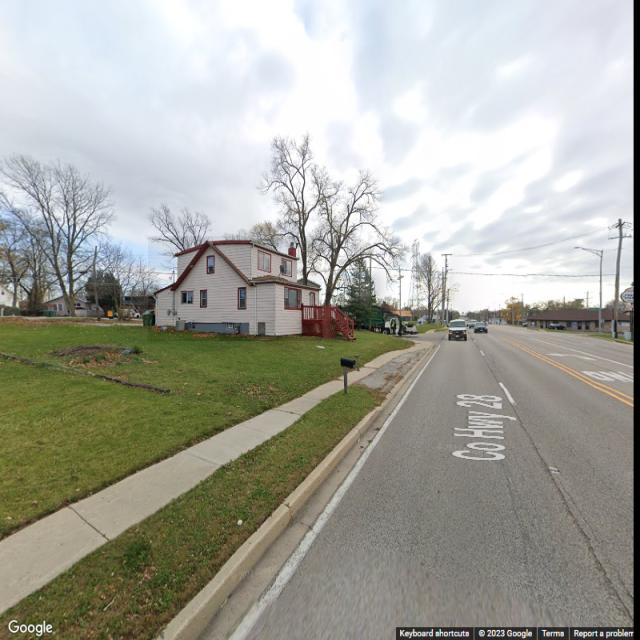House: (148, 236, 322, 341), (528, 308, 634, 332), (43, 293, 87, 317), (0, 282, 20, 317)
